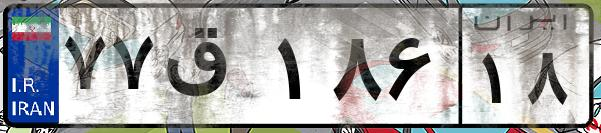1: (270, 28, 330, 110), (475, 38, 525, 113)
6: (385, 28, 445, 110)
7: (57, 26, 110, 100), (110, 28, 158, 98)
8: (330, 28, 385, 110), (525, 38, 570, 115)
ق: (158, 20, 270, 120)
